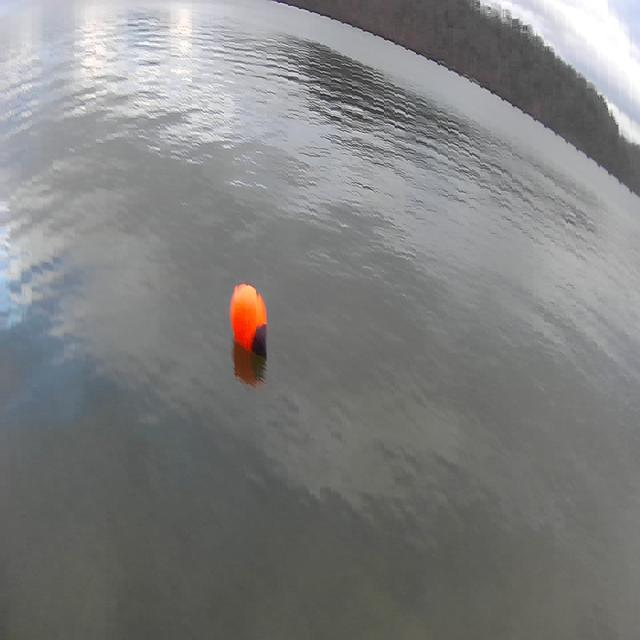Buoy: (227, 273, 273, 363)
